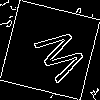W: (25, 25, 89, 89)
